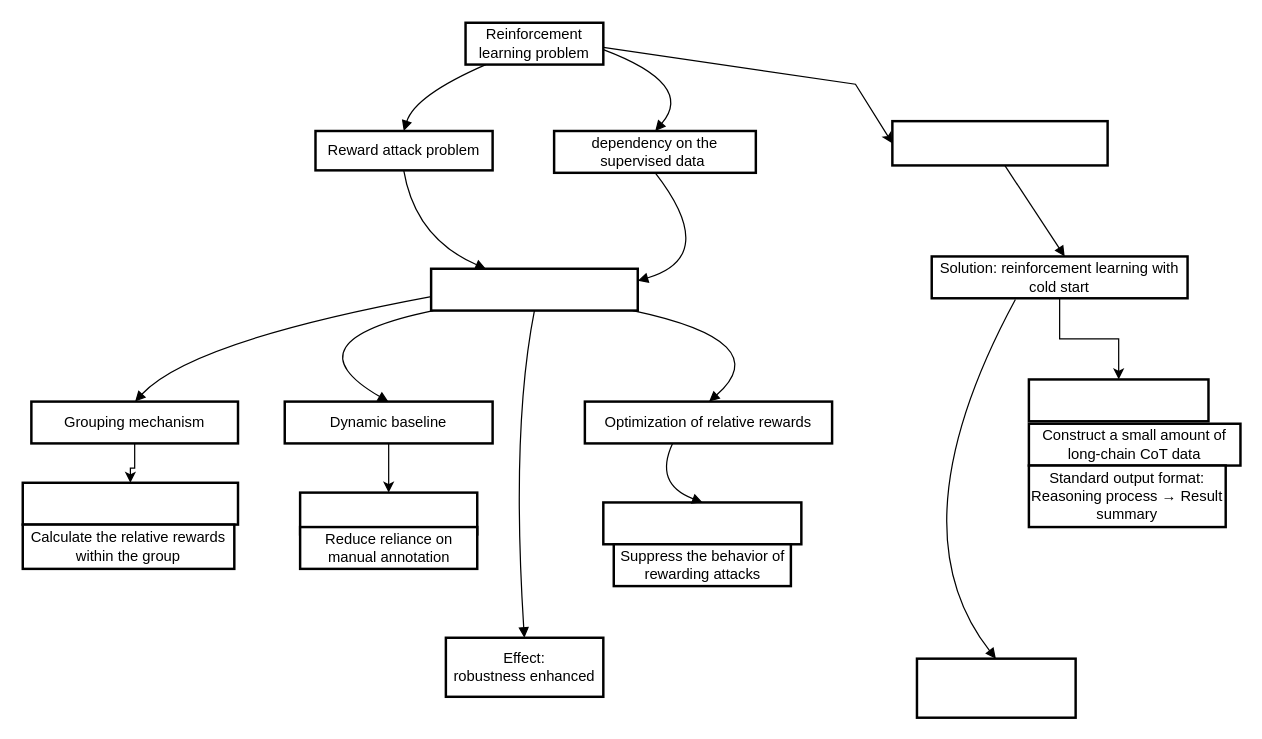
Image size: 1262x739. Some labels were removed from this diagram. Each missing label, with the centre of its shape:
"Avoid maximizing absolute scores" belongs at [701,523].
"Cold start problem" belongs at [999,142].
"Effect: Enhance readability" belongs at [995,687].
"Fine-tune the initial RL actuator" belongs at [1118,400].
"Generate multiple sets of outputs for the same question" belongs at [130,503].
"No need for value moel" belongs at [388,513].
"Solution: GRPO algorithm" belongs at [533,289].
